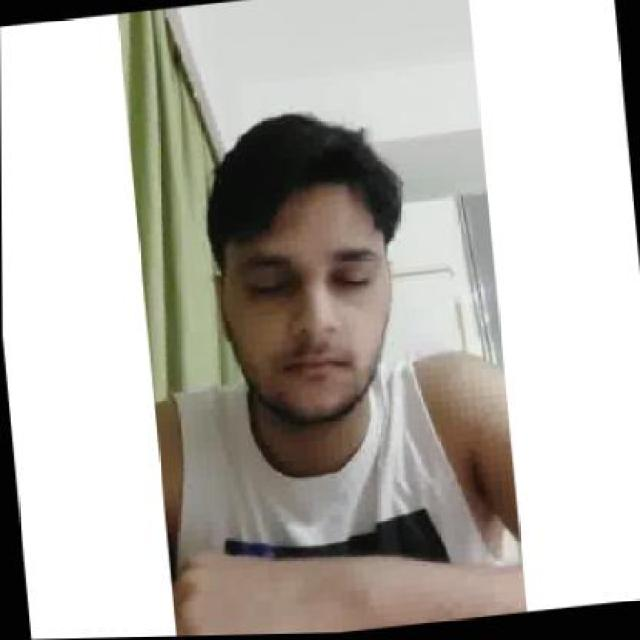inattentif: (193, 102, 409, 441)
